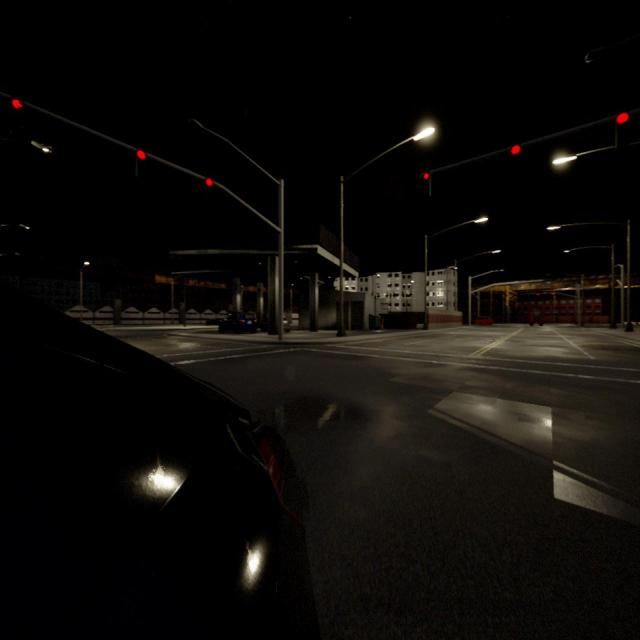Vehicle: (0, 297, 310, 637), (220, 311, 255, 333), (530, 308, 543, 326), (475, 316, 492, 326), (206, 319, 219, 325)
traffic_light: (616, 113, 628, 146), (136, 150, 146, 175), (205, 178, 212, 198), (12, 98, 22, 108), (511, 145, 520, 155), (424, 172, 428, 179), (536, 292, 540, 296), (552, 292, 556, 295)
